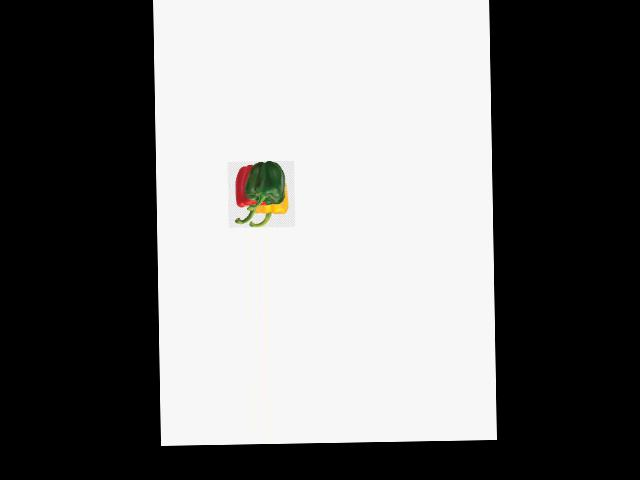bell_pepper: (227, 163, 266, 225)
